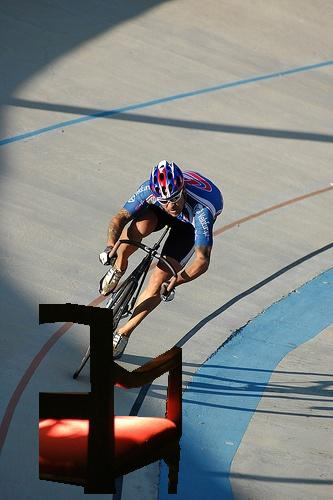tampered: (40, 304, 182, 494)
